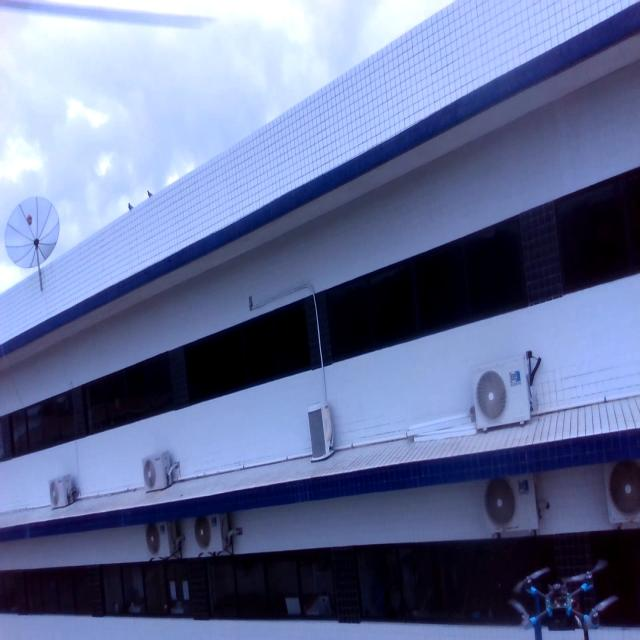-uav-: (501, 549, 640, 640)
